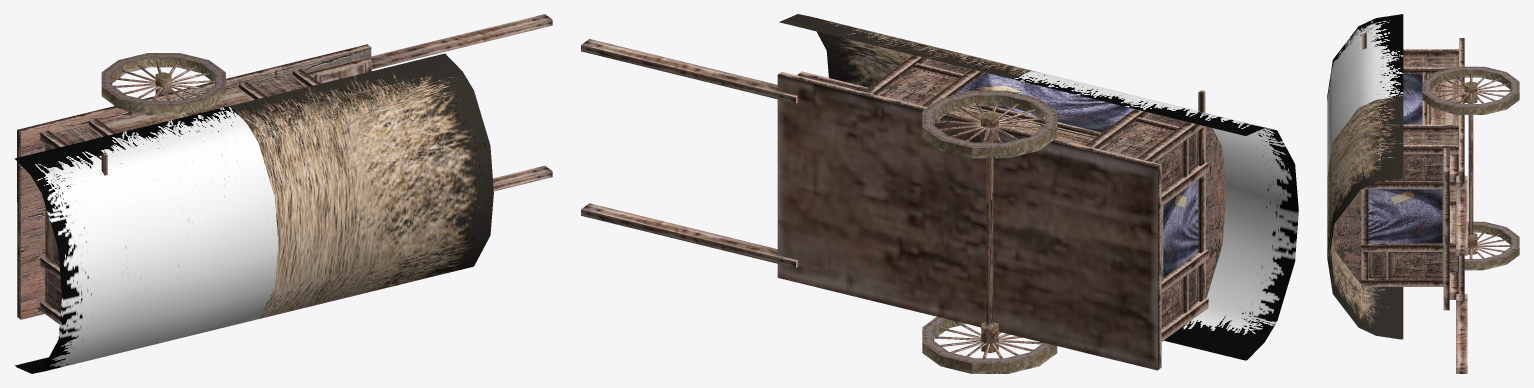
The model's file is nder01.obj.
3 renders of one model, left to right at view 1: azimuth 30°, elevation 25°; view 2: azimuth 150°, elevation 25°; view 3: azimuth 270°, elevation 25°, orthographic. The views are drawn at different scales.
Parts seen in each view (by area): view 1: nder01; view 2: nder01; view 3: nder01.
Boxes of the visible parts, left/top/right/bottom form: nder01: left=14, top=14, right=552, bottom=373; nder01: left=581, top=14, right=1298, bottom=373; nder01: left=1327, top=14, right=1519, bottom=373.
Size of the model in its own units: 174 by 63.43 by 64.94.
